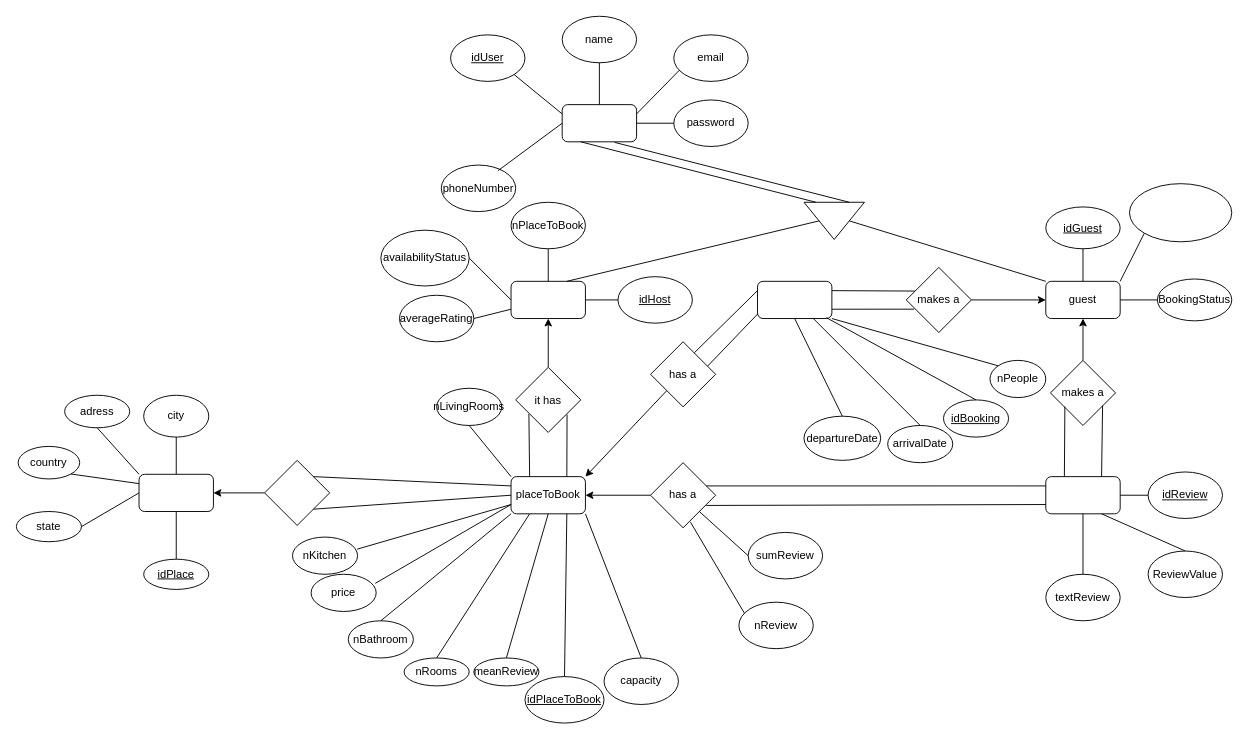
Some shapes in this 1248 by 739 pixel diagram are drawn without their labels. Each missing label, with the centre of its shape:
"booking" goes at (x=794, y=299).
"host" goes at (x=547, y=299).
"ISA" goes at (x=833, y=220).
"its at" goes at (x=297, y=492).
"place" goes at (x=175, y=492).
"ReservationStatus" goes at (x=1180, y=212).
"review" goes at (x=1082, y=495).
"user" goes at (x=599, y=123).
